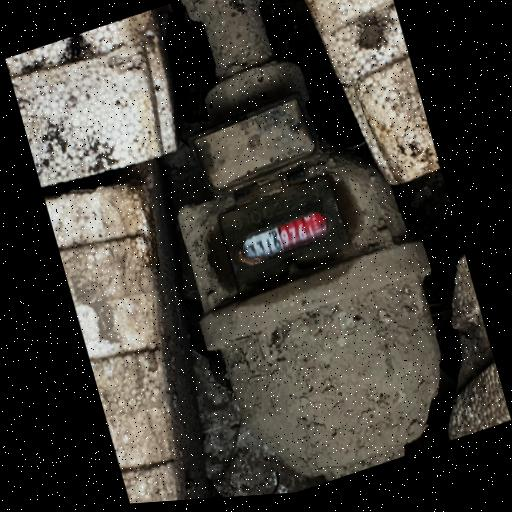1: (303, 213, 318, 240), (261, 230, 276, 256)
3: (253, 232, 269, 258), (243, 235, 259, 259)
6: (268, 226, 284, 253), (294, 216, 310, 243)
7: (285, 220, 300, 247)
9: (277, 223, 292, 250)
border_water_meter_number: (238, 209, 331, 264)
